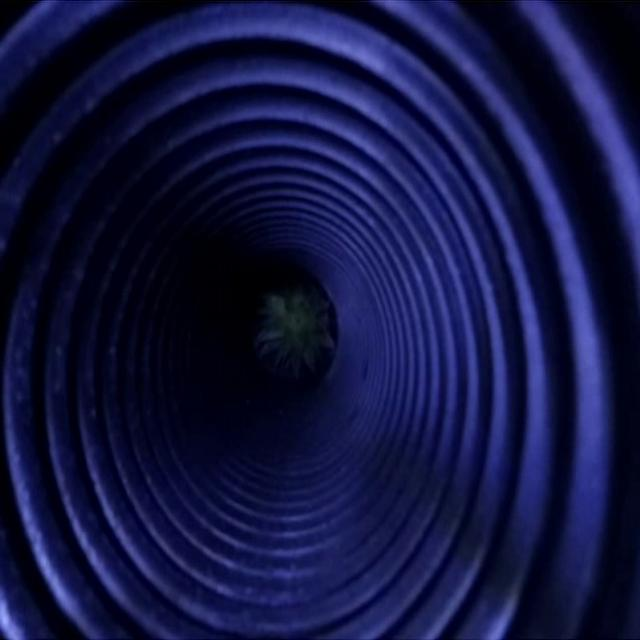leaf: (262, 287, 333, 379)
